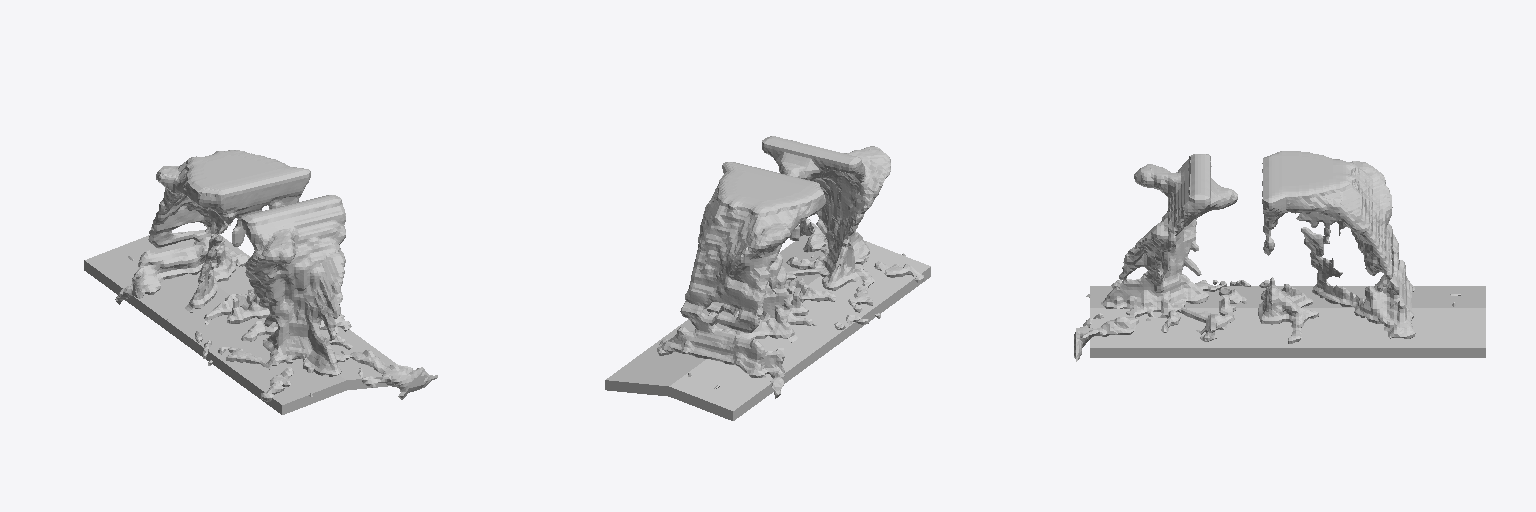
Rendered from Watersim_000027.obj.
The picture shows the model from 3 angles: view 1: azimuth 30°, elevation 25°; view 2: azimuth 150°, elevation 25°; view 3: azimuth 270°, elevation 25°; orthographic projection.
Visible parts, largest first — view 1: Domain_Cube.006, Straße_Cube.007; view 2: Domain_Cube.006, Straße_Cube.007; view 3: Domain_Cube.006, Straße_Cube.007.
Boxes of the visible parts, x1=… form: Domain_Cube.006: x1=115, y1=150, x2=437, y2=401; Straße_Cube.007: x1=84, y1=230, x2=395, y2=414; Domain_Cube.006: x1=657, y1=136, x2=923, y2=398; Straße_Cube.007: x1=605, y1=235, x2=930, y2=420; Domain_Cube.006: x1=1074, y1=151, x2=1460, y2=361; Straße_Cube.007: x1=1090, y1=286, x2=1485, y2=357.
Size of the model in its own units: 2.85 by 2.71 by 6.31.